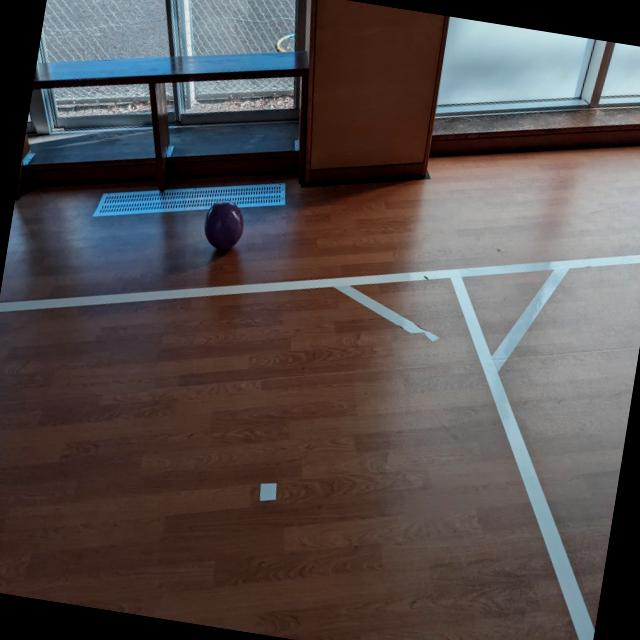purple_ball: (200, 195, 250, 252)
